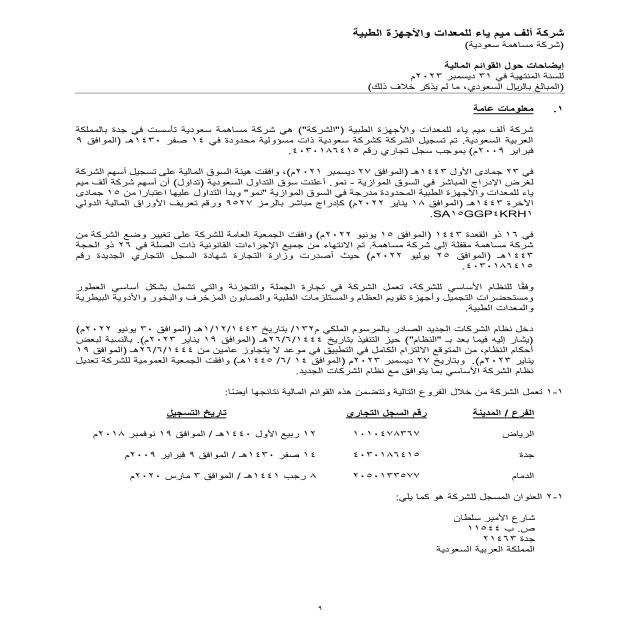notes: (421, 58, 578, 70)
table: (71, 401, 558, 487)
